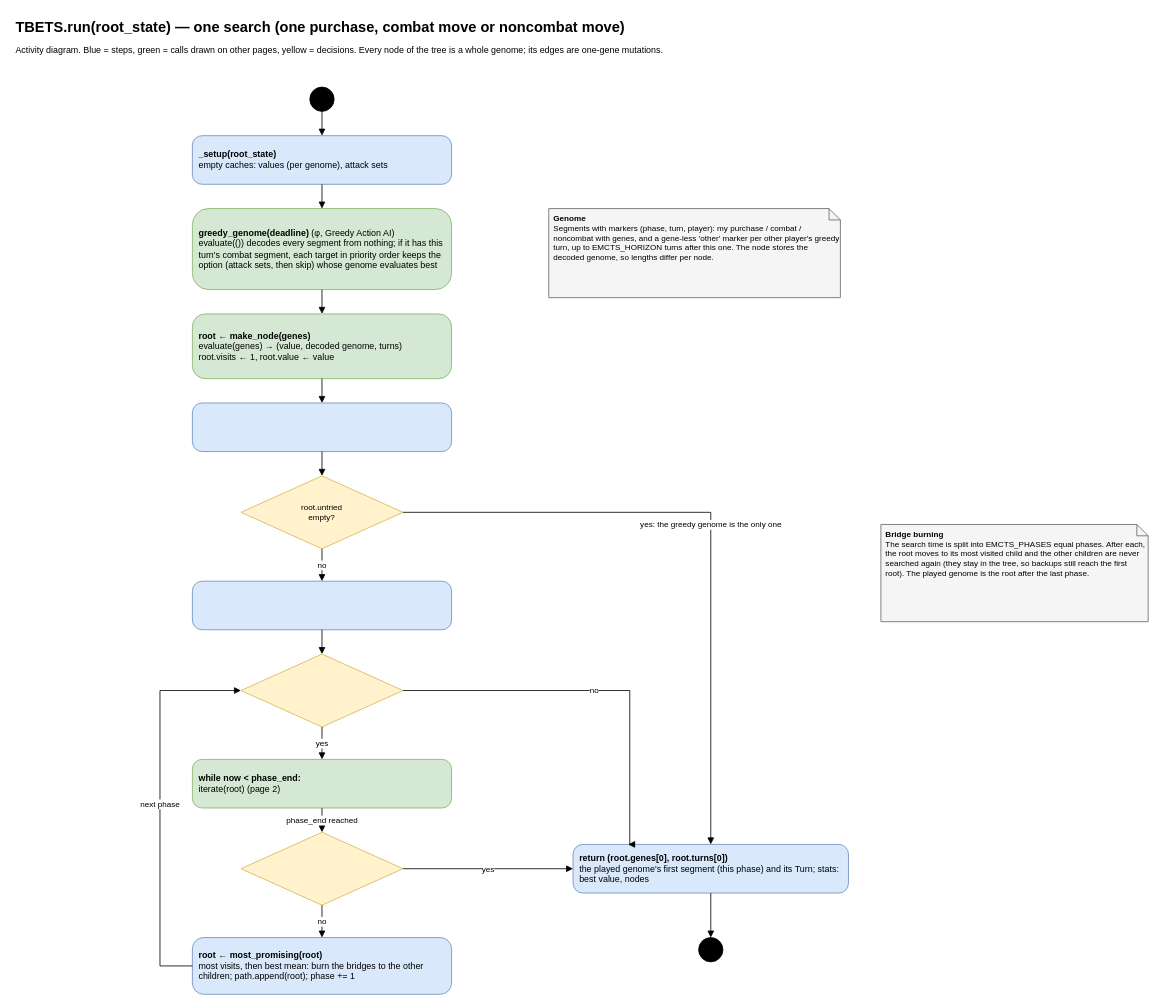
This 1162x1008 diagram has some shape labels left out. Each missing label, with the centre of its shape:
phase < EMCTS_PHASES?: [321,690]
phase ← 0 phase_seconds ← time left / EMCTS_PHASES: [322,605]
root.children empty?: [321,868]
root.untried ← mutations(root) every one-gene change of my segments, shuffled: [322,427]
